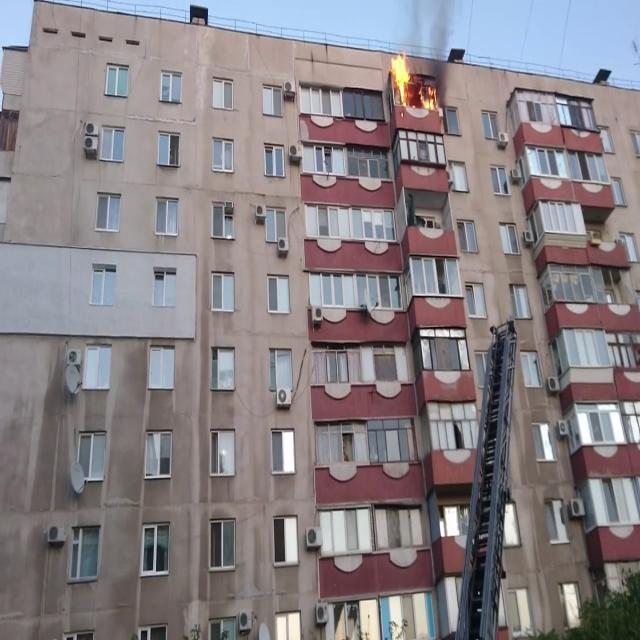Fire: (386, 48, 414, 110)
Smoke: (0, 359, 55, 627)
